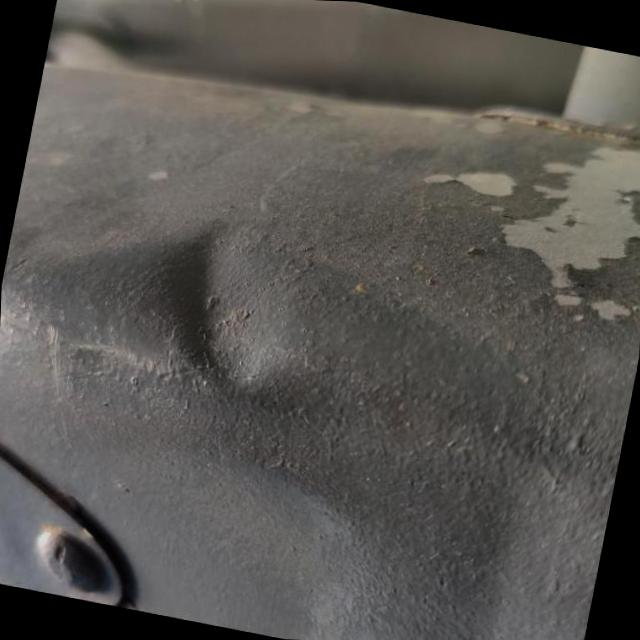dent: (186, 215, 312, 408)
